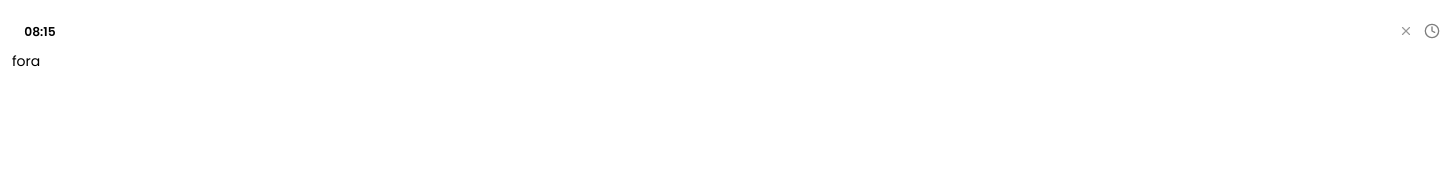
TimePicker › o botão de limpar apaga o horário
Click the button named "Limpar horário".
click(1406, 31)  # box [1396,21,1417,42]
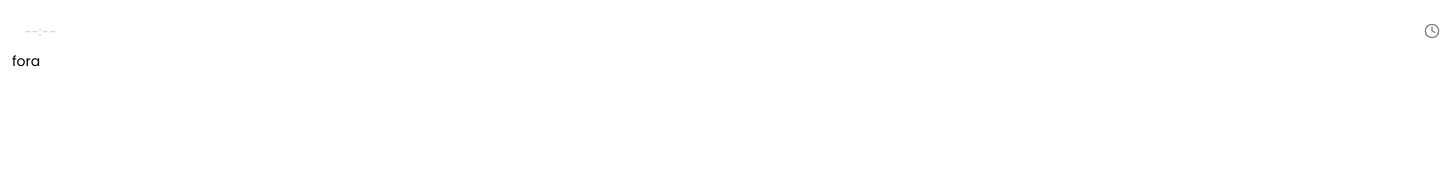
Now the field named "Início" is empty, box [12,12,1417,50]
